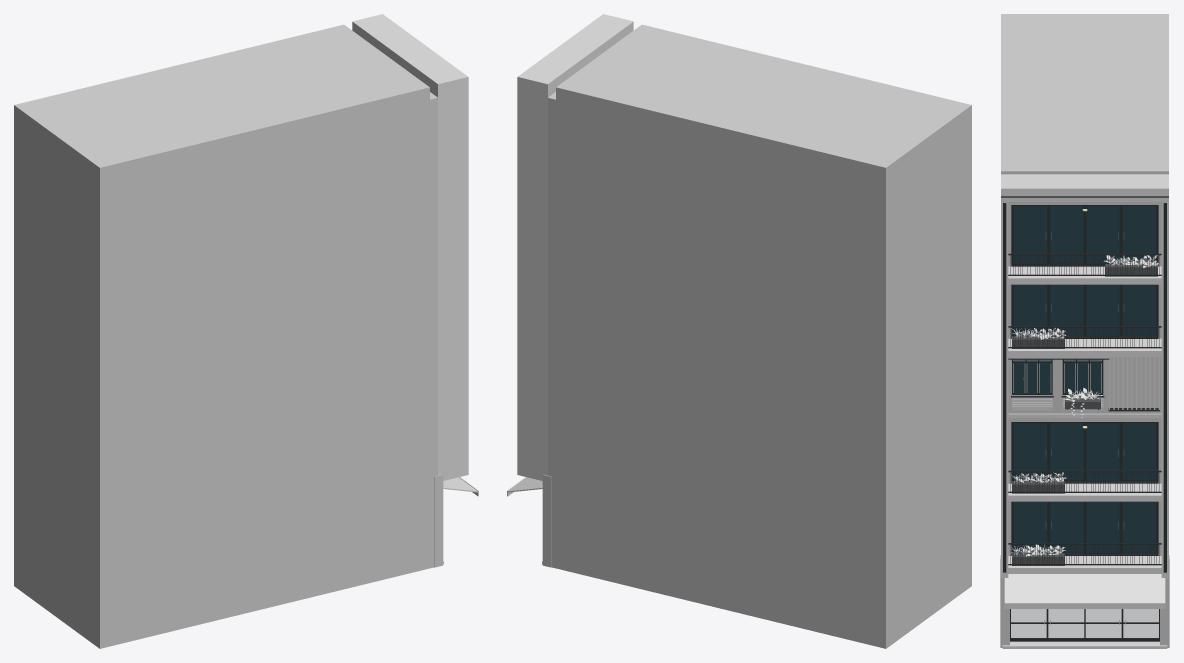
Rendered from OW_Mau_NhaPho_7_0_2.fbx.
The picture shows the model from 3 angles, left to right: view 1: azimuth 30°, elevation 25°; view 2: azimuth 150°, elevation 25°; view 3: azimuth 270°, elevation 25°; orthographic projection. The views are drawn at different scales.
Visible parts, largest first — view 1: OW_NhaPho_9036; view 2: OW_NhaPho_9036; view 3: OW_NhaPho_9036, OW_MatTienKinh.
Boxes of the visible parts, left/top/right/bottom form: OW_NhaPho_9036: left=14, top=14, right=478, bottom=648; OW_NhaPho_9036: left=507, top=14, right=971, bottom=648; OW_NhaPho_9036: left=1000, top=14, right=1169, bottom=648; OW_MatTienKinh: left=1010, top=609, right=1159, bottom=641.
Size of the model in its own units: 17.77 by 21.5 by 7.
